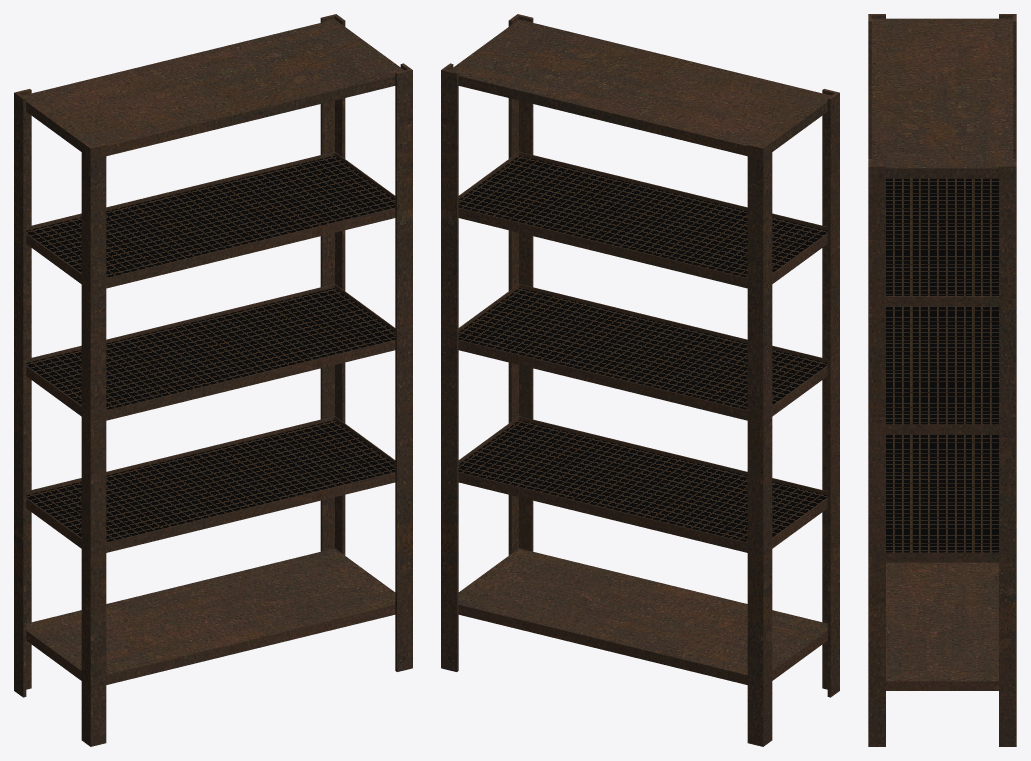
The model's file is shelf_mx_6.glb.
The picture shows the model from 3 angles, left to right: view 1: azimuth 30°, elevation 25°; view 2: azimuth 150°, elevation 25°; view 3: azimuth 270°, elevation 25°; orthographic projection. The views are drawn at different scales.
Parts seen in each view (by area): view 1: shelf_mx_6; view 2: shelf_mx_6; view 3: shelf_mx_6.
Boxes of the visible parts, x1,y1,x2,y2 form: shelf_mx_6: (14, 14, 412, 746); shelf_mx_6: (441, 14, 839, 746); shelf_mx_6: (868, 14, 1016, 746).
Bounding box in the file's own units: 1.02 × 1.81 × 0.42.
2 materials, 2 textured.
